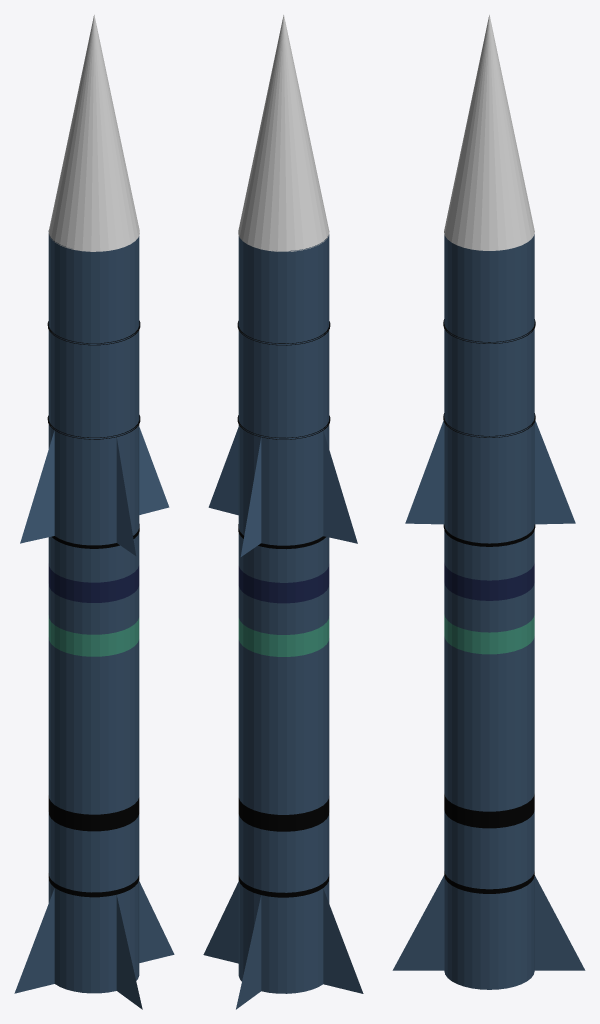
File: raketa_swychayna.fbx
3 renders of one model, left to right at view 1: azimuth 30°, elevation 25°; view 2: azimuth 150°, elevation 25°; view 3: azimuth 270°, elevation 25°, orthographic.
Visible parts, largest first — view 1: ракета звичайна; view 2: ракета звичайна; view 3: ракета звичайна.
Boxes of the visible parts, bbox=[...] form: ракета звичайна: bbox=[14, 15, 174, 1009]; ракета звичайна: bbox=[203, 14, 363, 1009]; ракета звичайна: bbox=[392, 14, 585, 989].
Size of the model in its own units: 460 by 2637 by 482.
